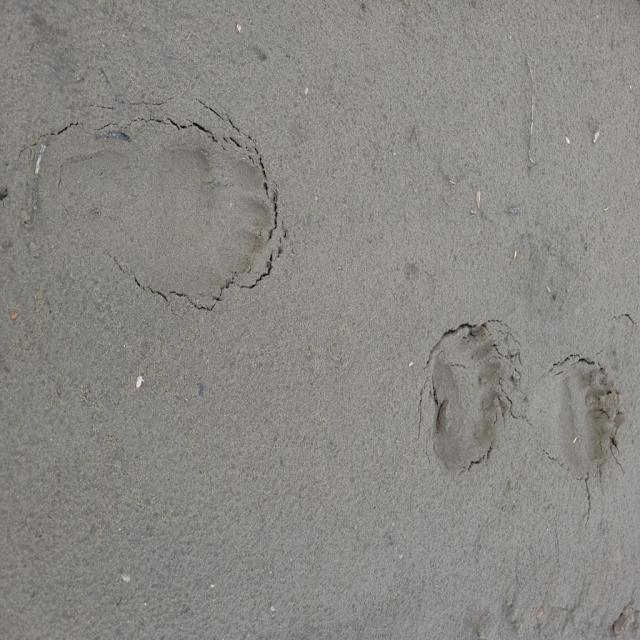bear: (51, 131, 271, 293), (428, 329, 502, 450), (556, 369, 619, 470)
